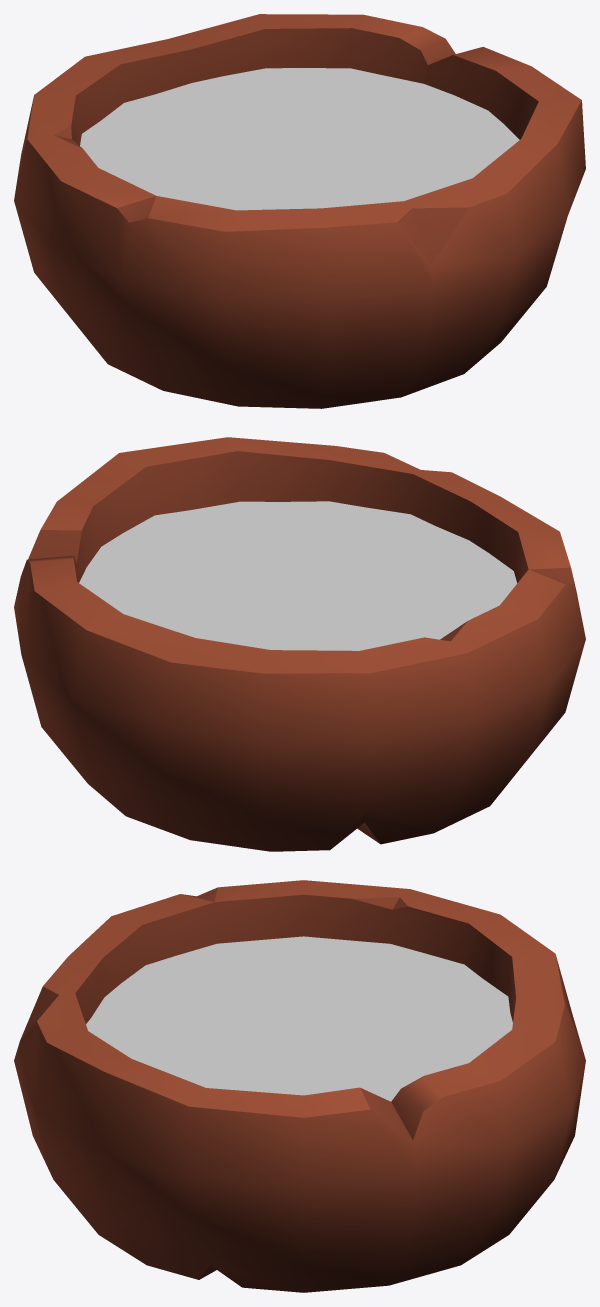
The model's file is Tannery_Bowl_1C.fbx.
The picture shows the model from 3 angles, top to bottom: view 1: azimuth 30°, elevation 25°; view 2: azimuth 150°, elevation 25°; view 3: azimuth 270°, elevation 25°; orthographic projection. The views are drawn at different scales.
Parts seen in each view (by area): view 1: Tannery_Bowl_1C; view 2: Tannery_Bowl_1C; view 3: Tannery_Bowl_1C.
Part boxes in pixels (x1=…): Tannery_Bowl_1C: x1=14, y1=14, x2=585, y2=408; Tannery_Bowl_1C: x1=14, y1=437, x2=585, y2=851; Tannery_Bowl_1C: x1=14, y1=880, x2=585, y2=1292.
Bounding box in the file's own units: 146 × 58.7 × 143.
